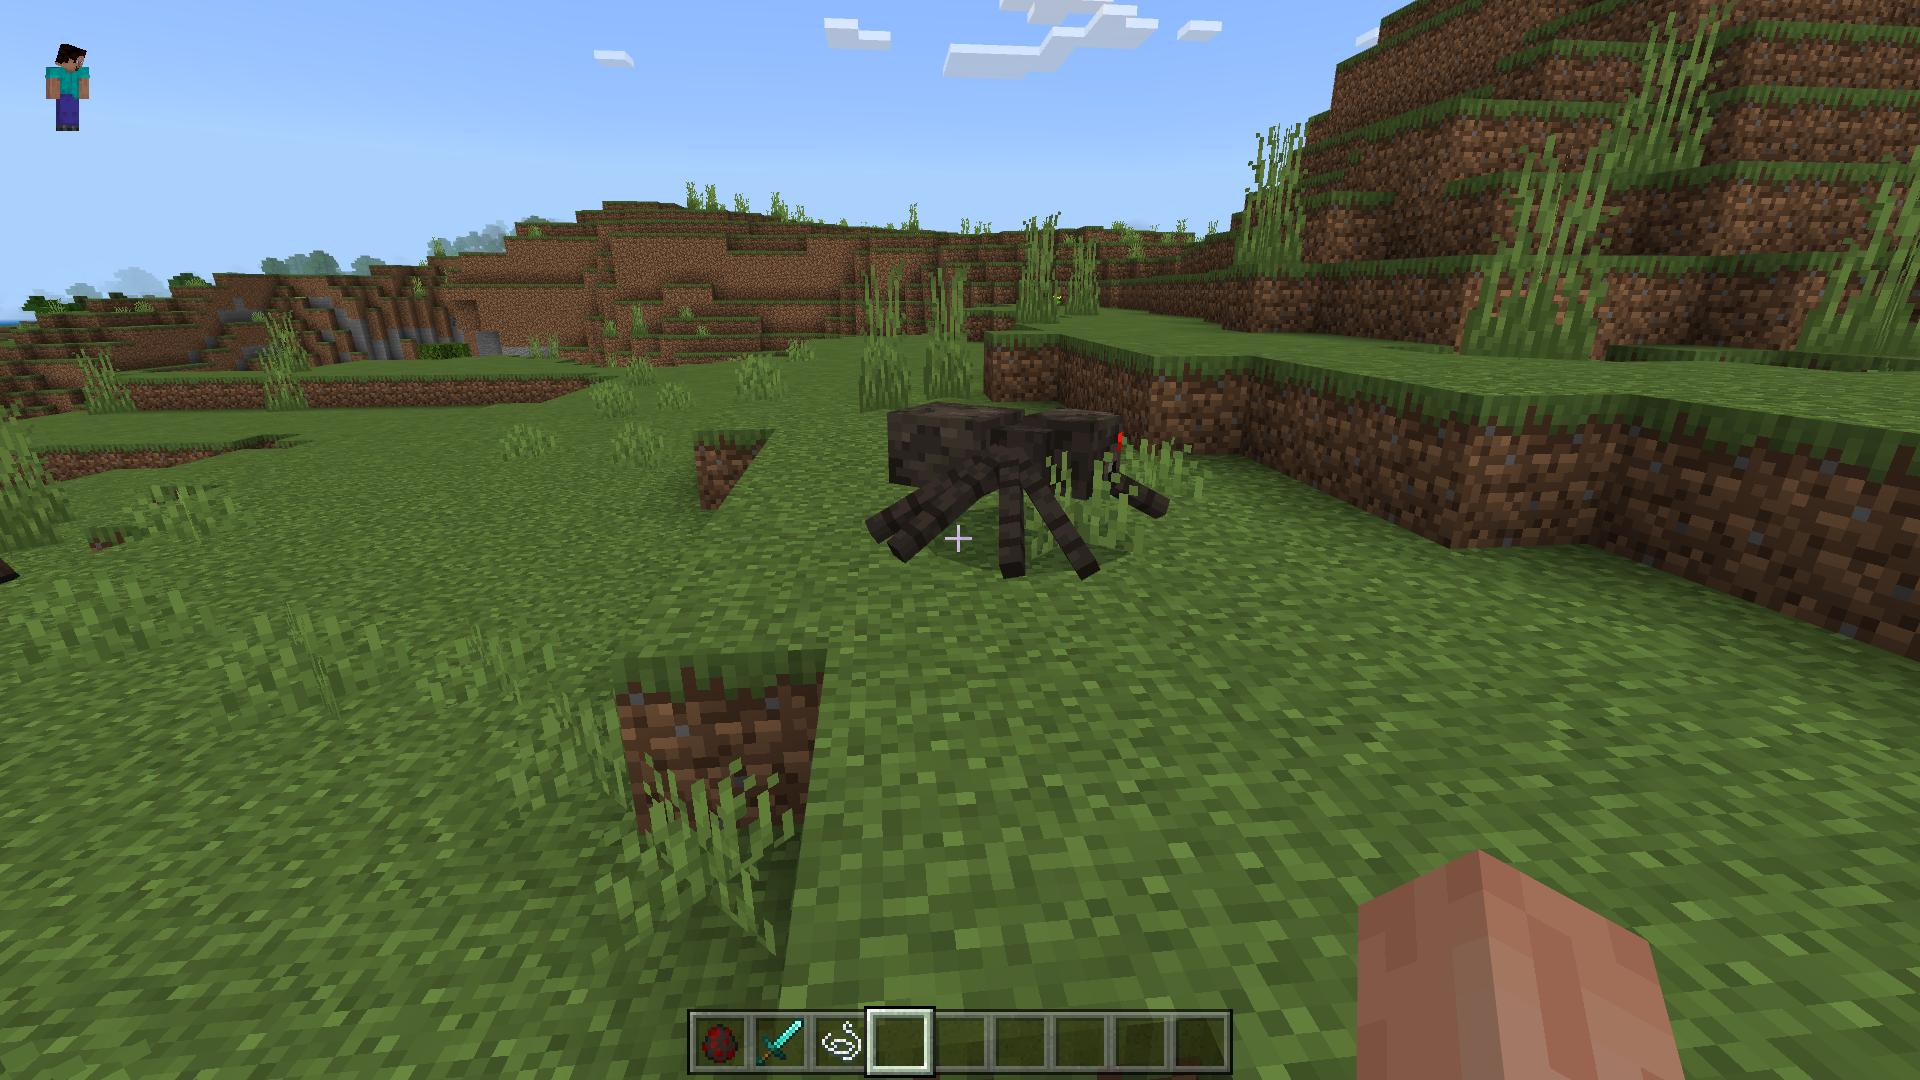spider: (864, 400, 1170, 589)
